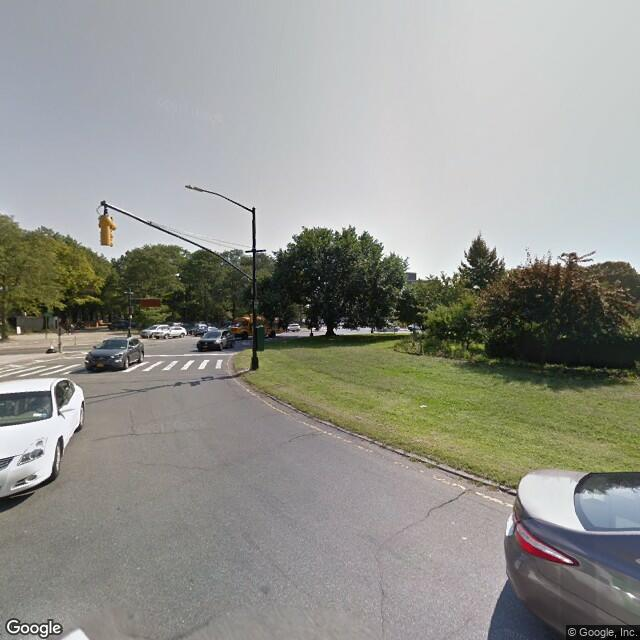litter: (419, 404, 427, 407)
